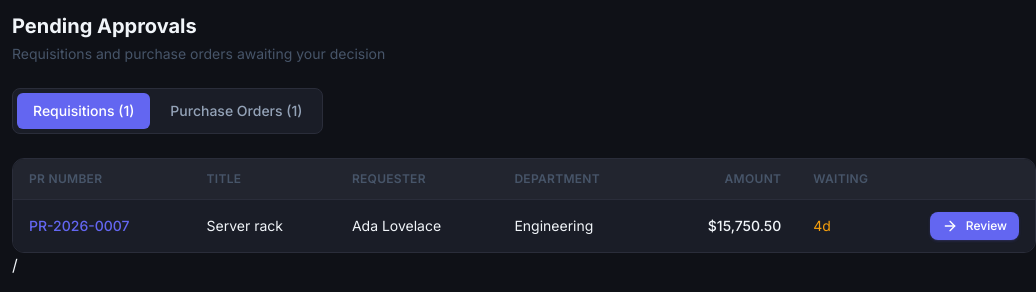
Test: ApprovalQueuePage › routes purchase orders to the order review page
The width and height of the screenshot is (1036, 292).
expect the text "PR-2026-0007" is shown: met, box [29,217,130,234]
Click the tab "Purchase Orders (1)". click: (236, 111)
box: [154,93,318,129]
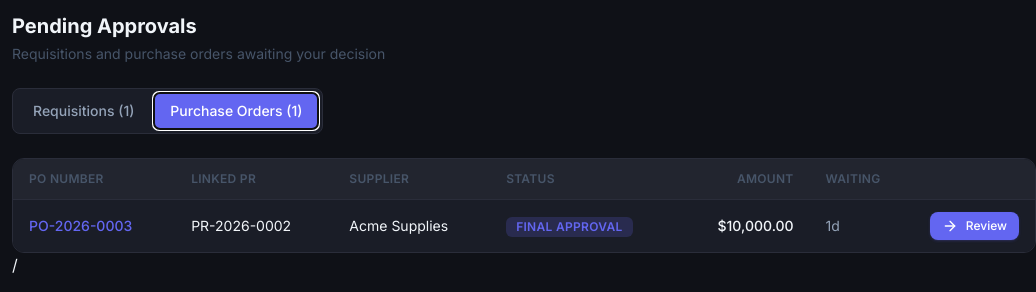
Click the button "Review". click: (974, 226)
box: [930,212,1019,240]
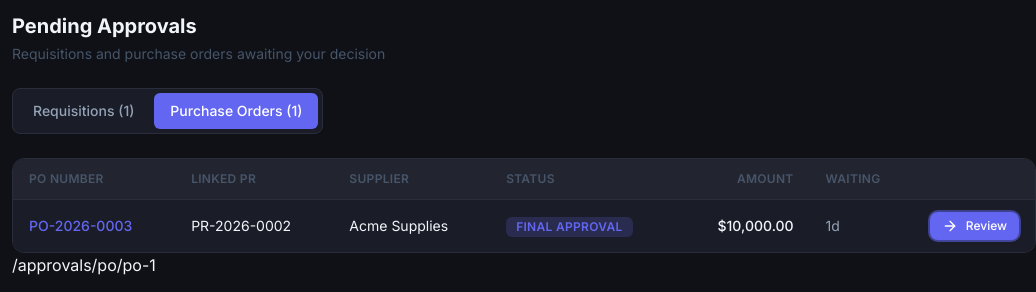
expect the text "/approvals/po/po-1" is shown: met, box [12,255,156,275]
